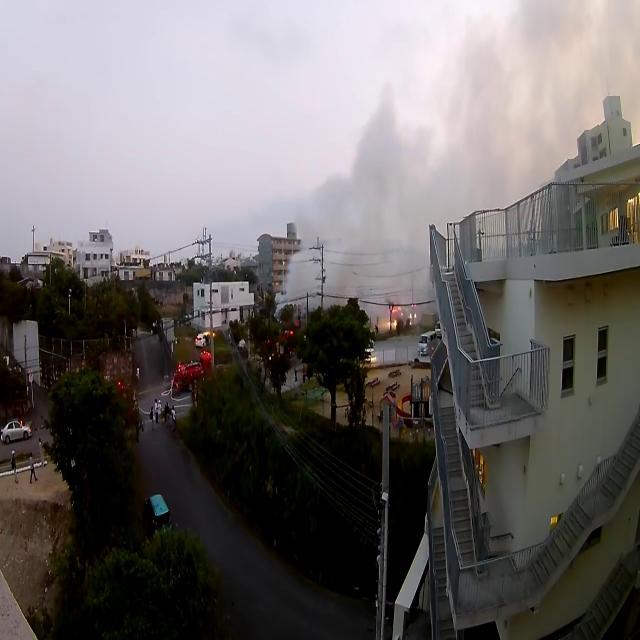Fire: (339, 186, 426, 268)
